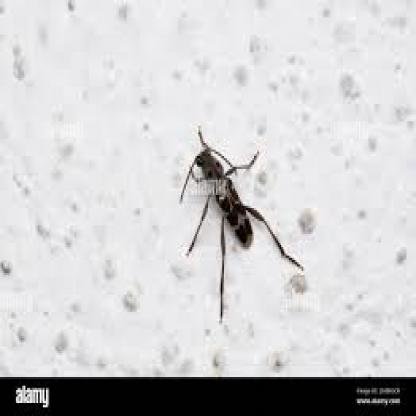sawfly: (178, 121, 307, 321)
